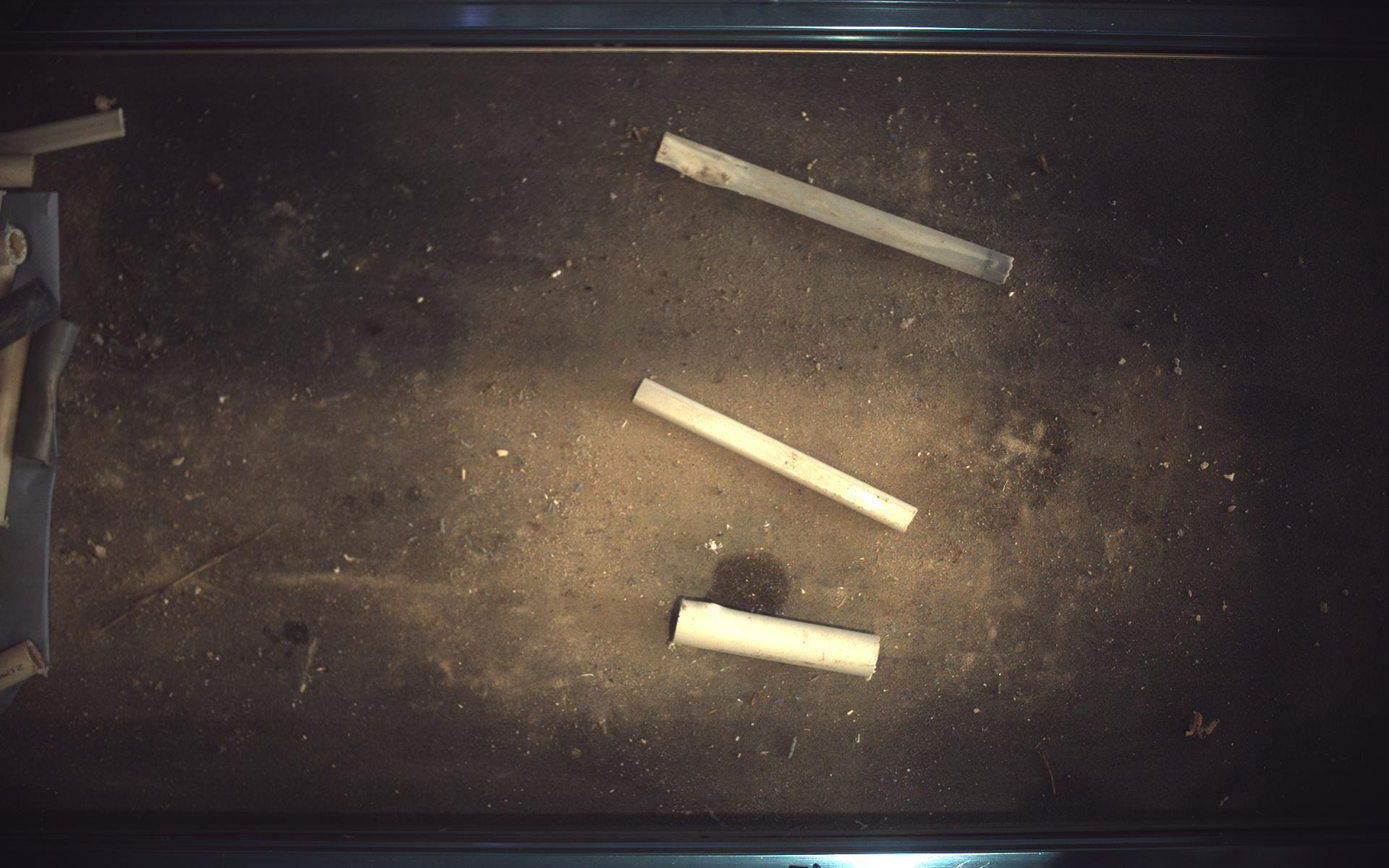pipes: (657, 132, 1016, 284), (671, 601, 882, 679)
plastic: (634, 378, 919, 532)
